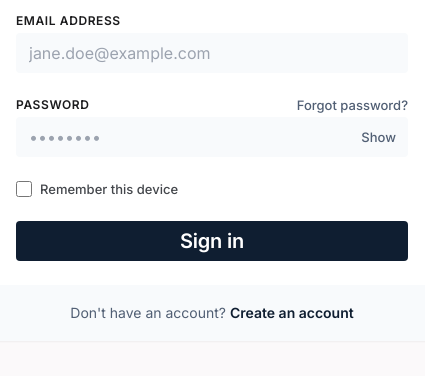
Test: LoginForm › shows specific and generic login errors and toggles password visibility
This screenshot has width=425, height=376.
Type "jane@example.com" into the field labelled "Email address" at (212, 53), box [16,33,408,73]
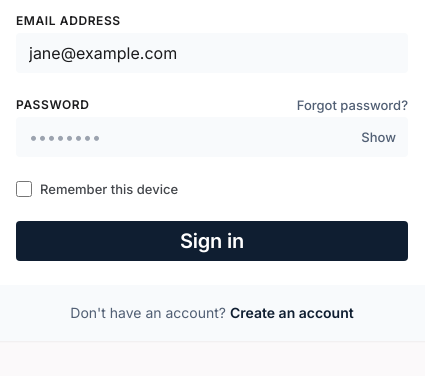
Type "password123" into the password field labelled "Password" at (212, 137), box [16,117,408,157]
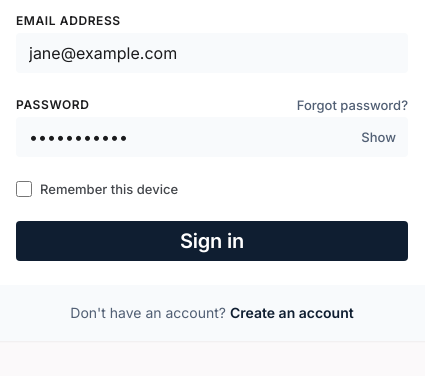
Click the button with aria-label "Show password" at (379, 137), box [349,117,408,157]
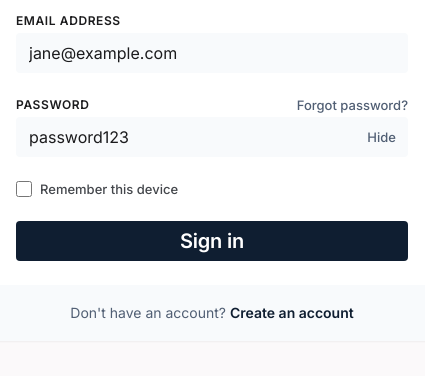
Expected: the field labelled "Password" shows its text, [16,117,408,157]
Click the button with aria-label "Hide password" at (382, 137), box [355,117,408,157]
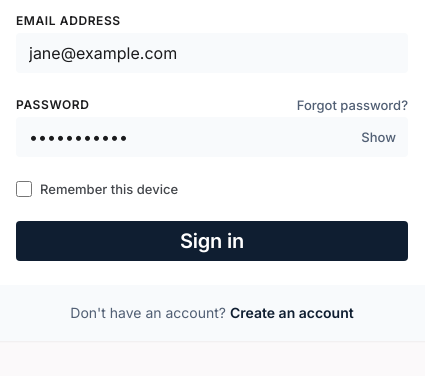
Click the button "Sign in" at (212, 241), box [16,221,408,261]
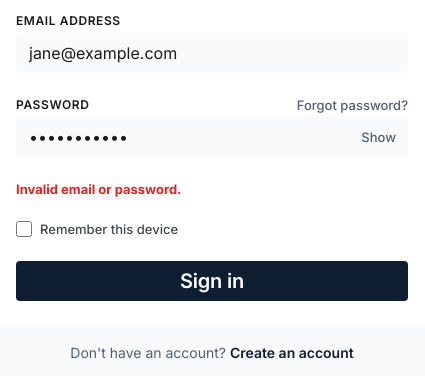
Expected: the text "Invalid email or password." is shown, [16,181,182,197]
Click the button "Sign in" at (212, 281), box [16,261,408,301]
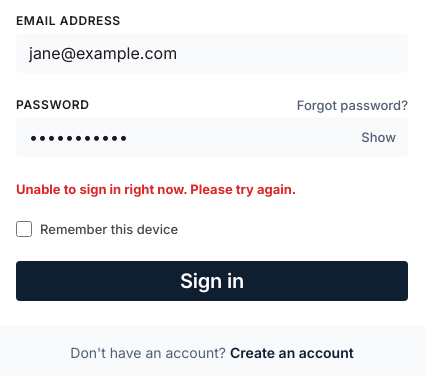
Expected: the text "Unable to sign in right now. Please try again." is shown, [16,181,296,197]
